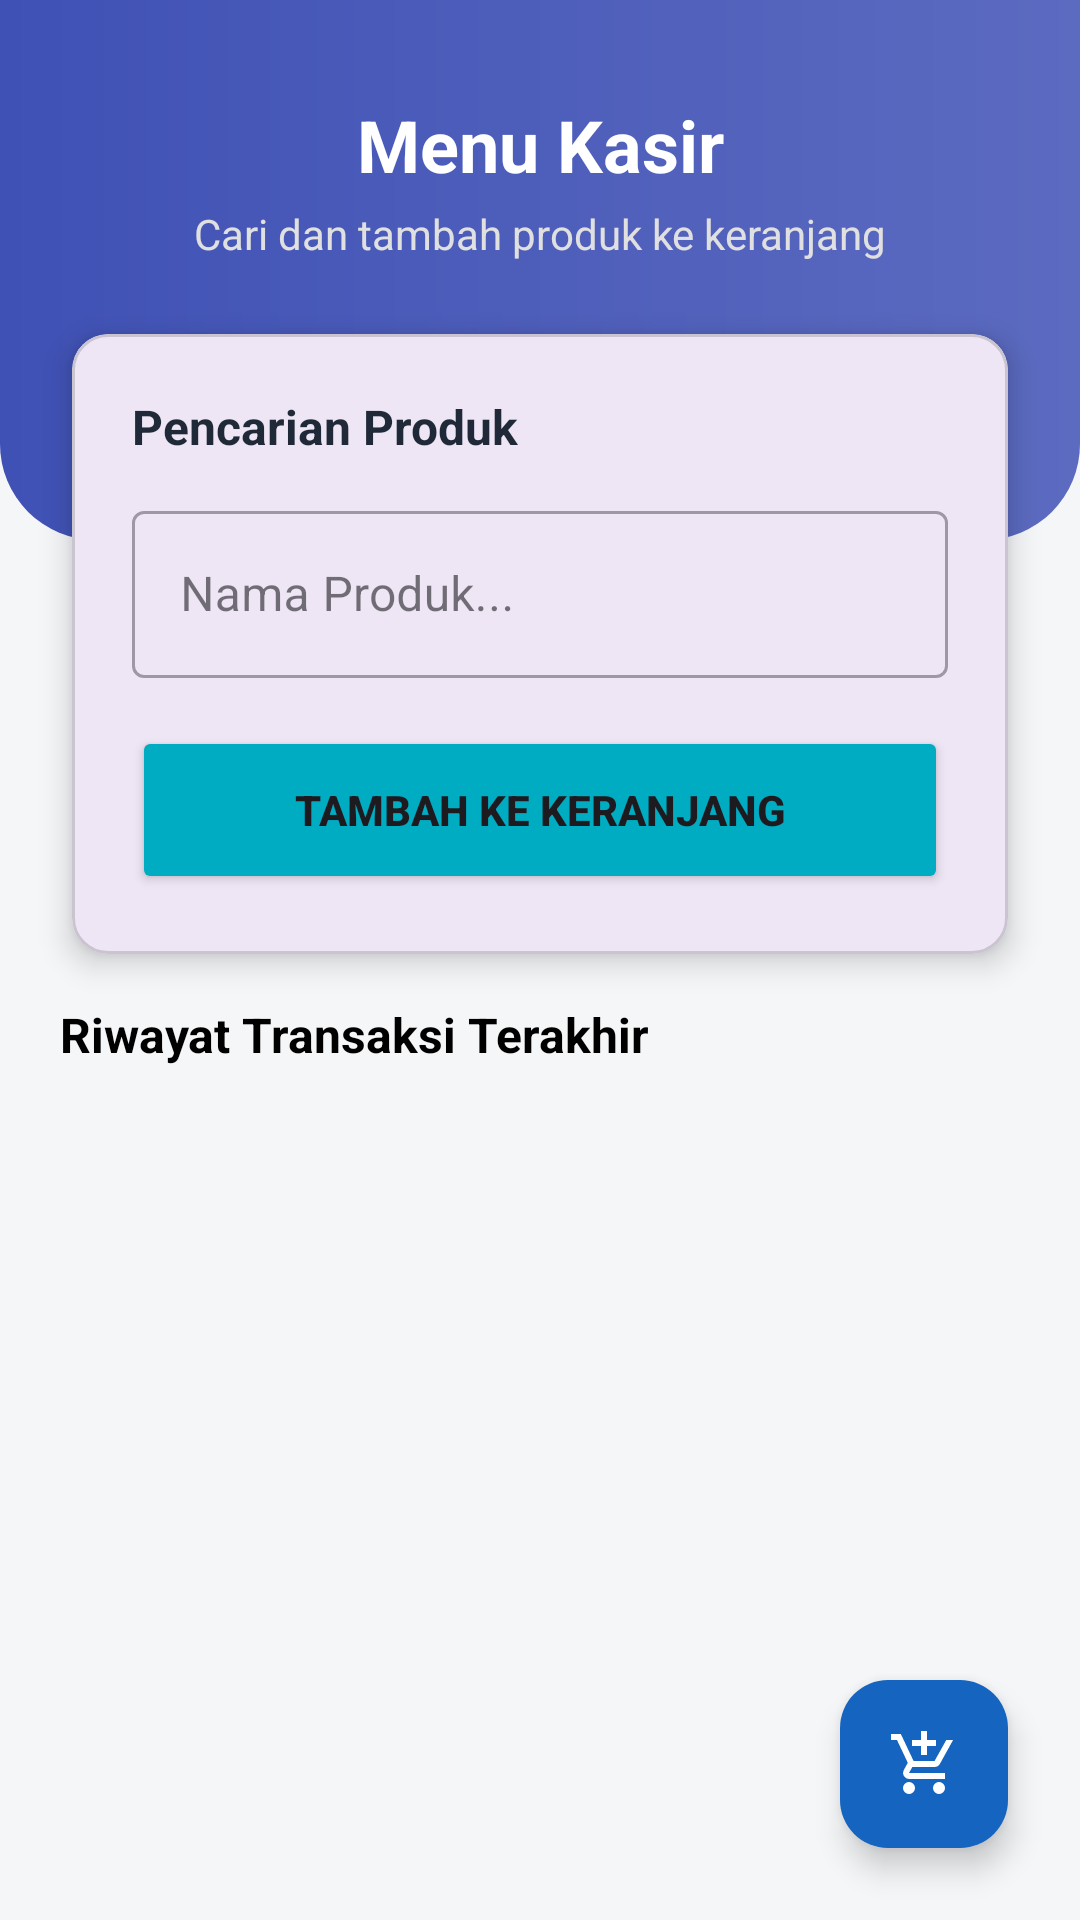

Where icons sit on this 1080px×1920px app screen, as [x1=x1, y1=y1, x2=x2, y2=y2]:
Open Cart: [x1=840, y1=1680, x2=1008, y2=1848]
